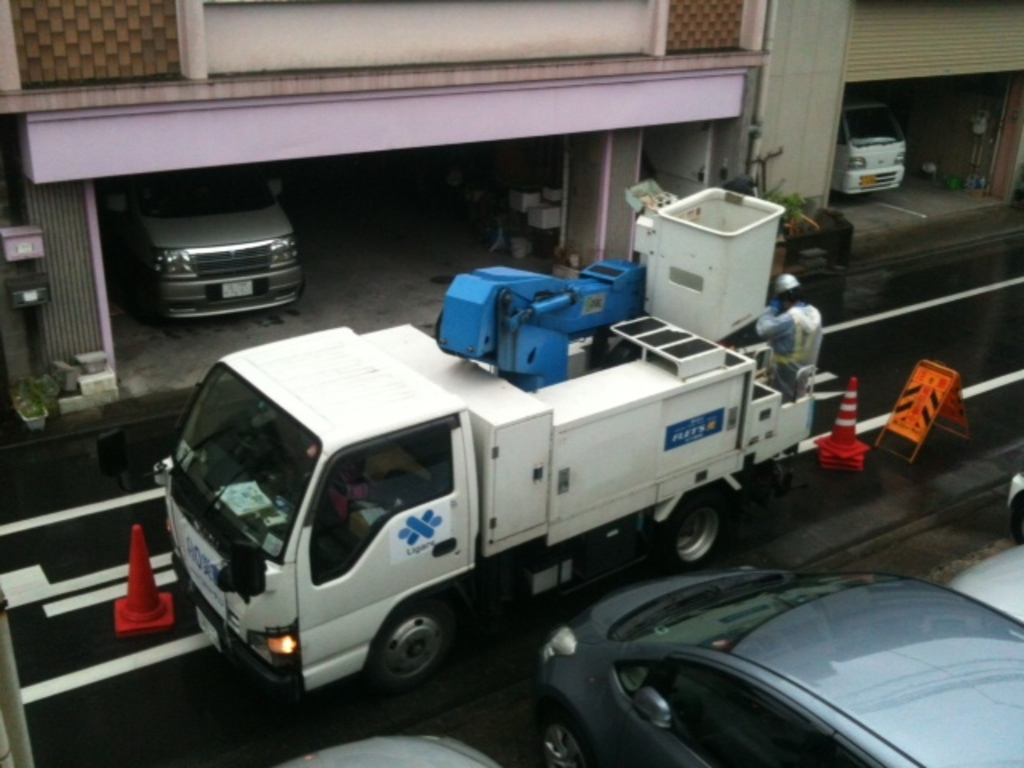Car: (532, 561, 1022, 766), (110, 166, 302, 323), (278, 732, 508, 766)
